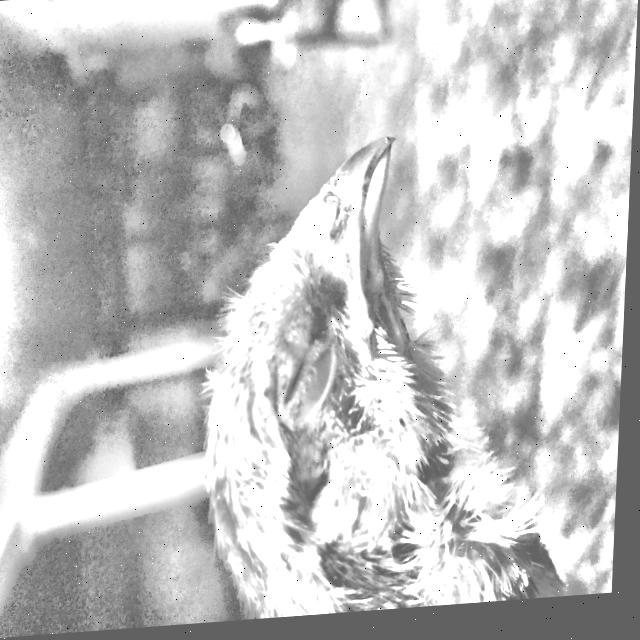Coryza: (152, 86, 448, 611)
